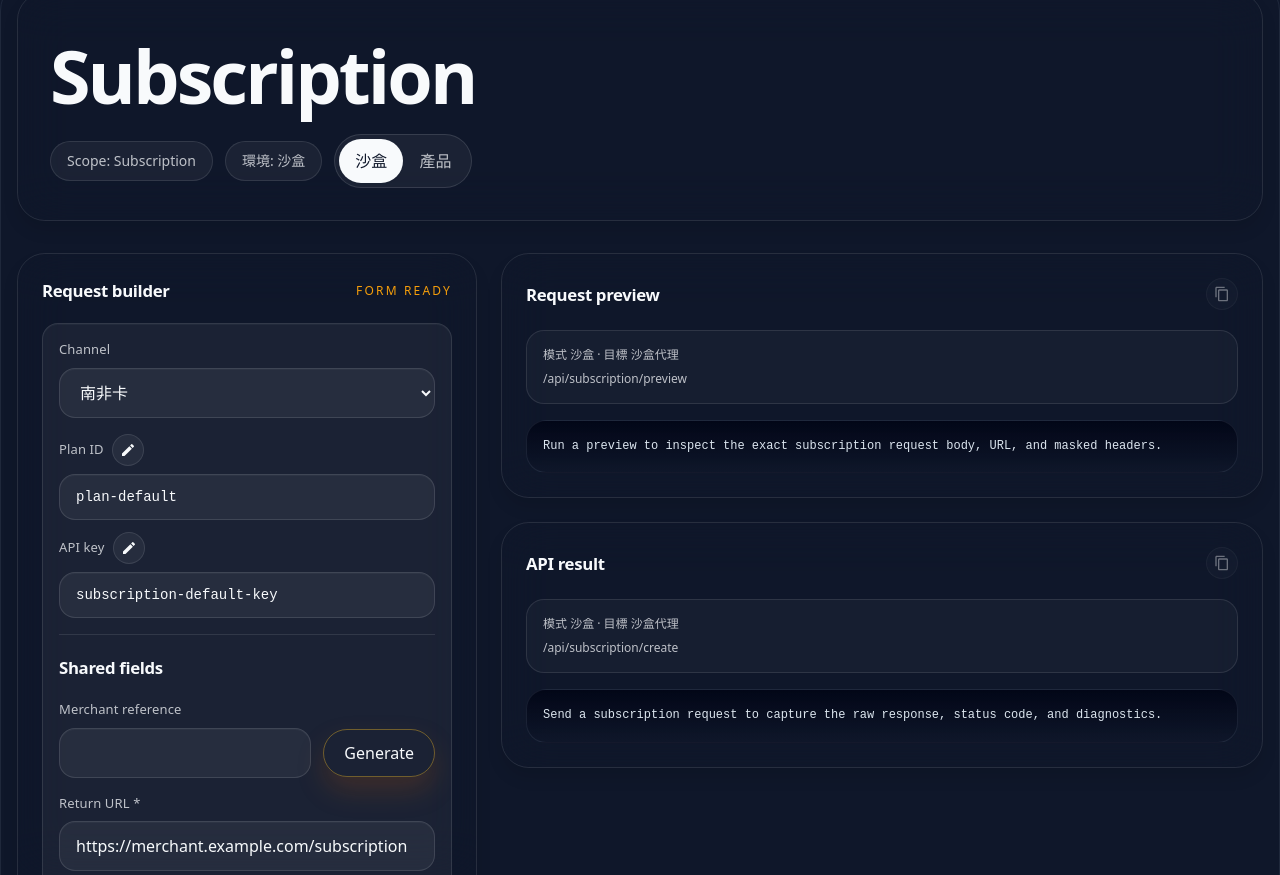
Test: SubscriptionPage › preview replaces the current merchant reference with the backend-generated value and create reuses it
The width and height of the screenshot is (1280, 875).
Check: the heading "Subscription" is shown, box top-left (50, 25), bottom-right (475, 126)
Check: the field labelled "Merchant reference" is empty, box top-left (59, 728), bottom-right (311, 778)
Click the button named "Edit API key" at (128, 548), box top-left (112, 532), bottom-right (144, 564)
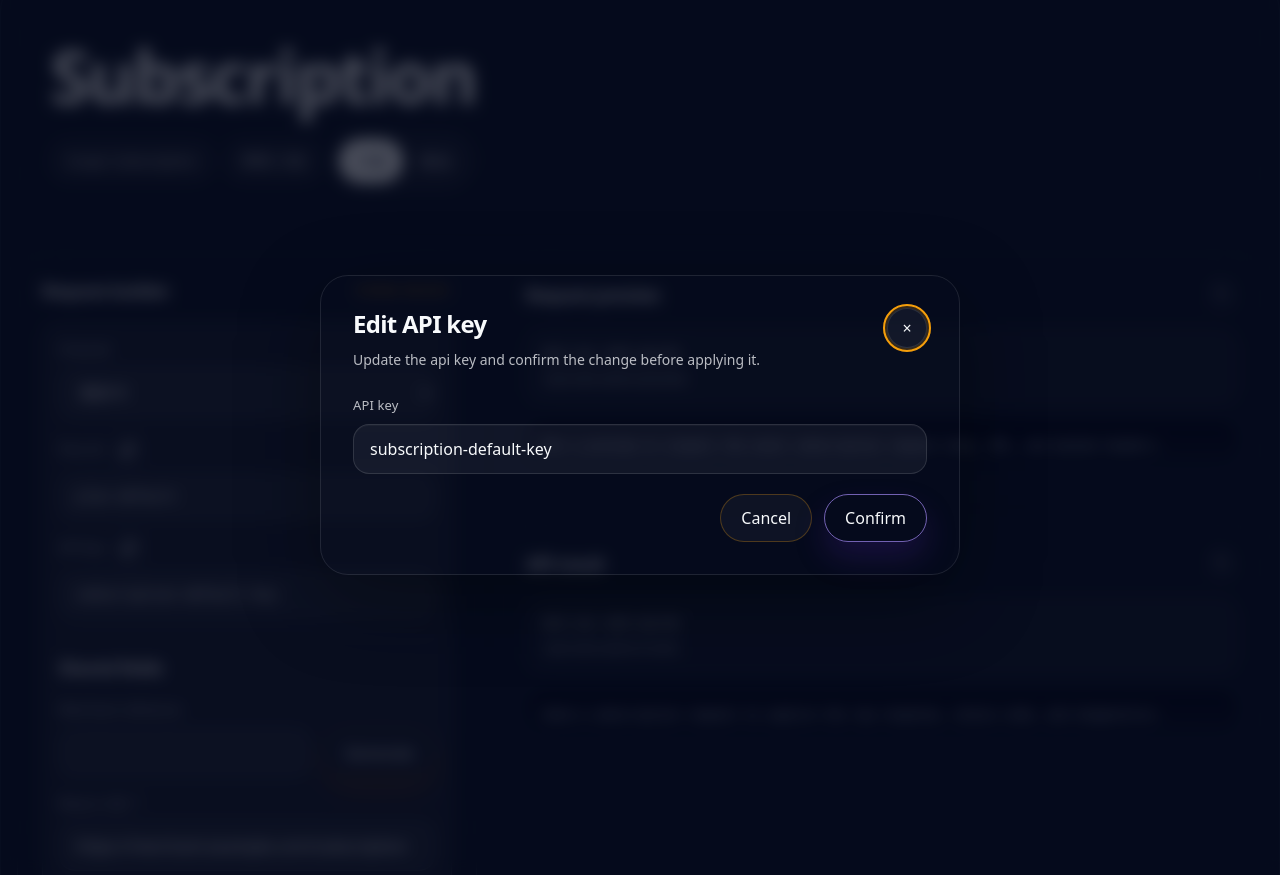
Check: the dialog is shown, box top-left (320, 275), bottom-right (960, 575)
Replace the text in the field labelled "API key" with "typed-subscription-key" at (640, 449), box top-left (353, 424), bottom-right (927, 474)
Click the button "Confirm" at (876, 518), box top-left (824, 494), bottom-right (927, 542)
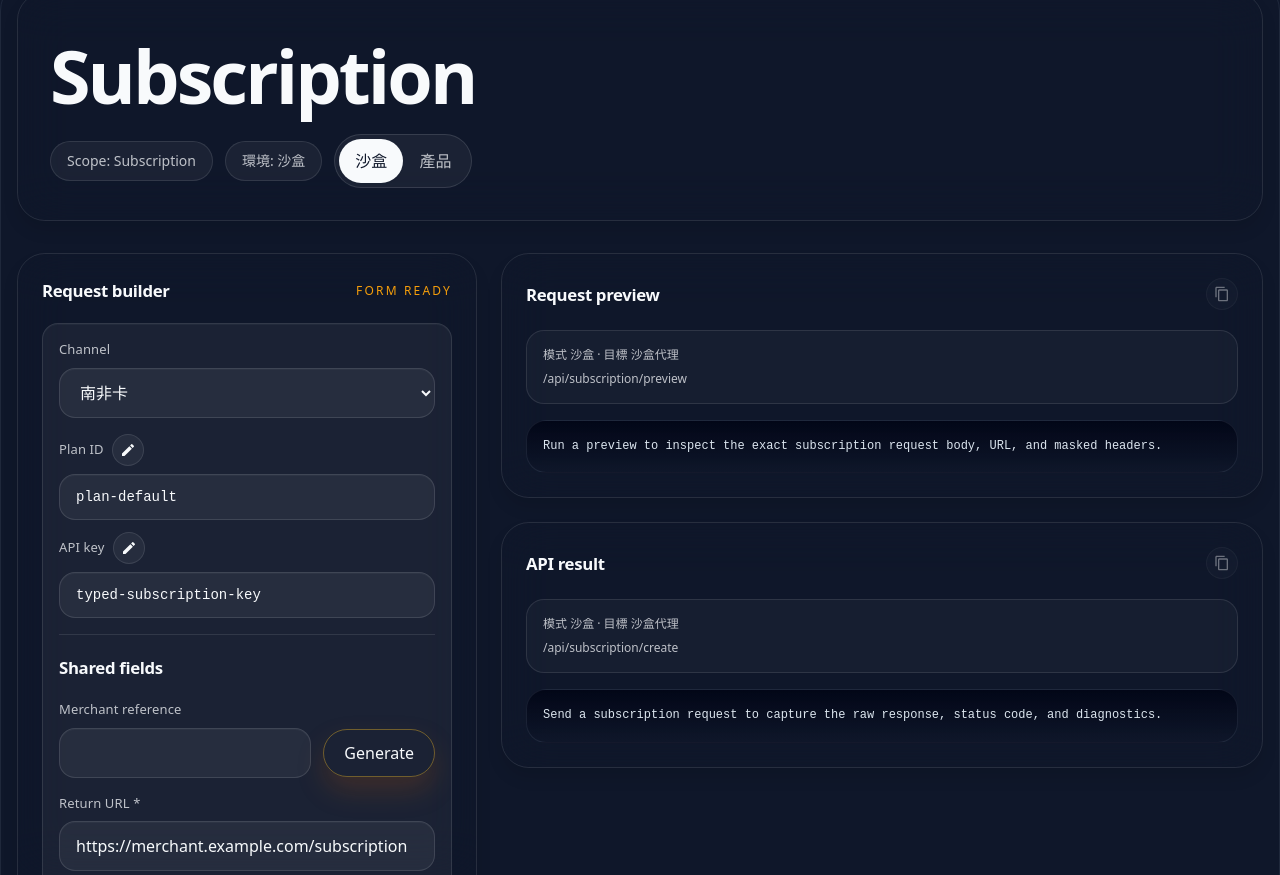
Click the button named "Edit Plan ID" at (128, 450), box top-left (112, 434), bottom-right (144, 466)
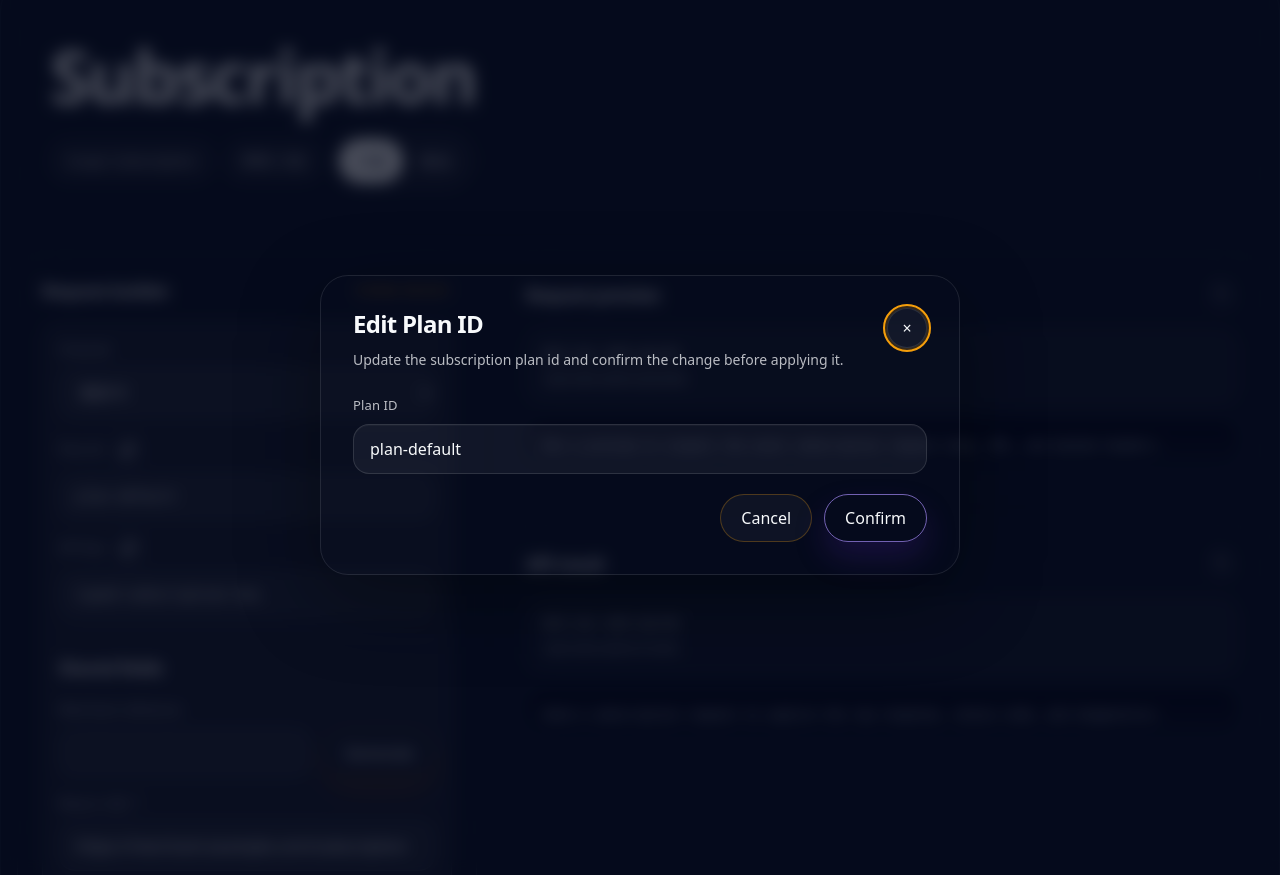
Check: the dialog is shown, box top-left (320, 275), bottom-right (960, 575)
Replace the text in the field labelled "Plan ID" with "plan-preview-override" at (640, 449), box top-left (353, 424), bottom-right (927, 474)
Click the button "Confirm" at (876, 518), box top-left (824, 494), bottom-right (927, 542)
(page scrolled)
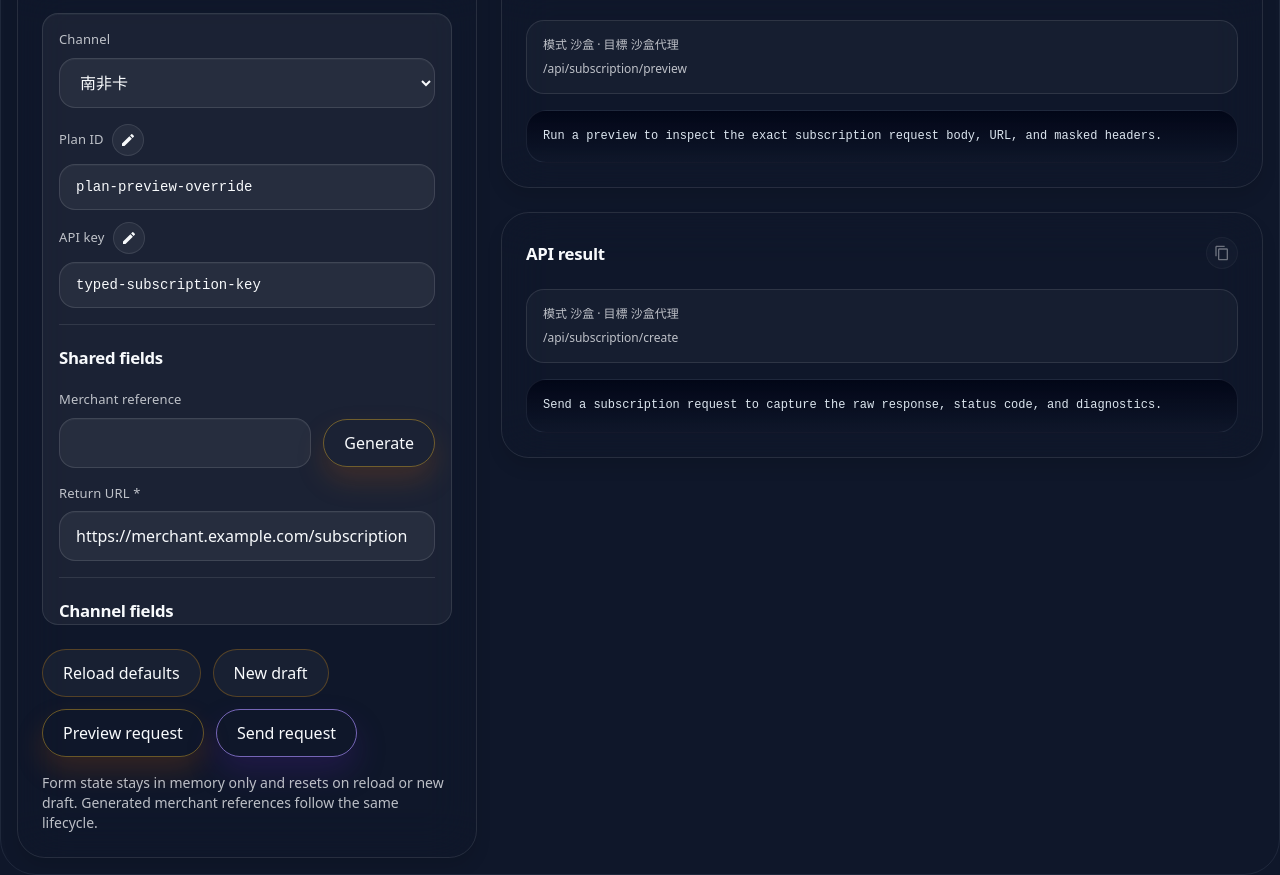
Check: the text "typed-subscription-key" is shown, box top-left (76, 277), bottom-right (261, 293)
Check: the text "plan-preview-override" is shown, box top-left (76, 179), bottom-right (252, 195)
Click the button "Preview request" at (123, 733), box top-left (42, 709), bottom-right (204, 757)
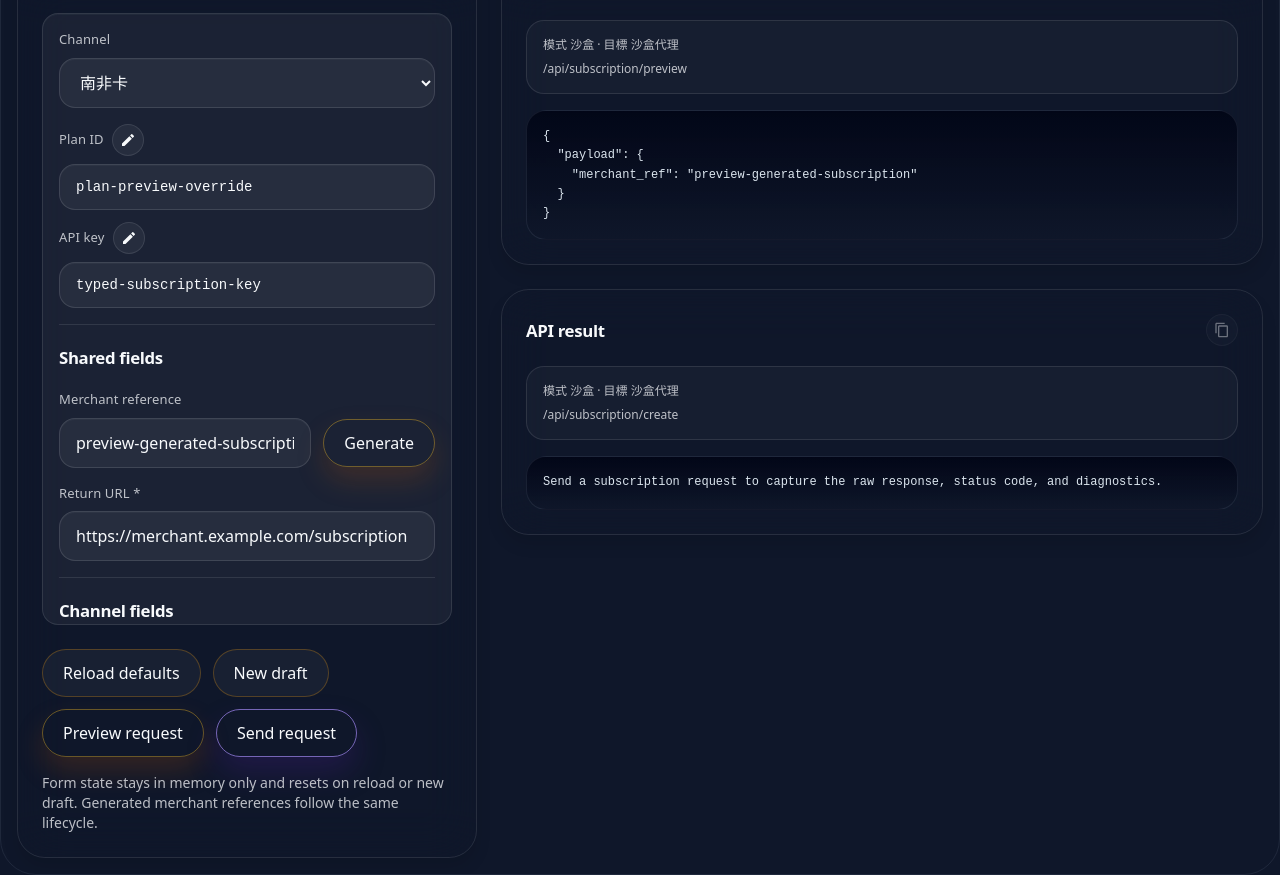
Check: the field labelled "Merchant reference" holds "preview-generated-subscription", box top-left (59, 418), bottom-right (311, 468)
Click the button "Send request" at (286, 733), box top-left (216, 709), bottom-right (357, 757)
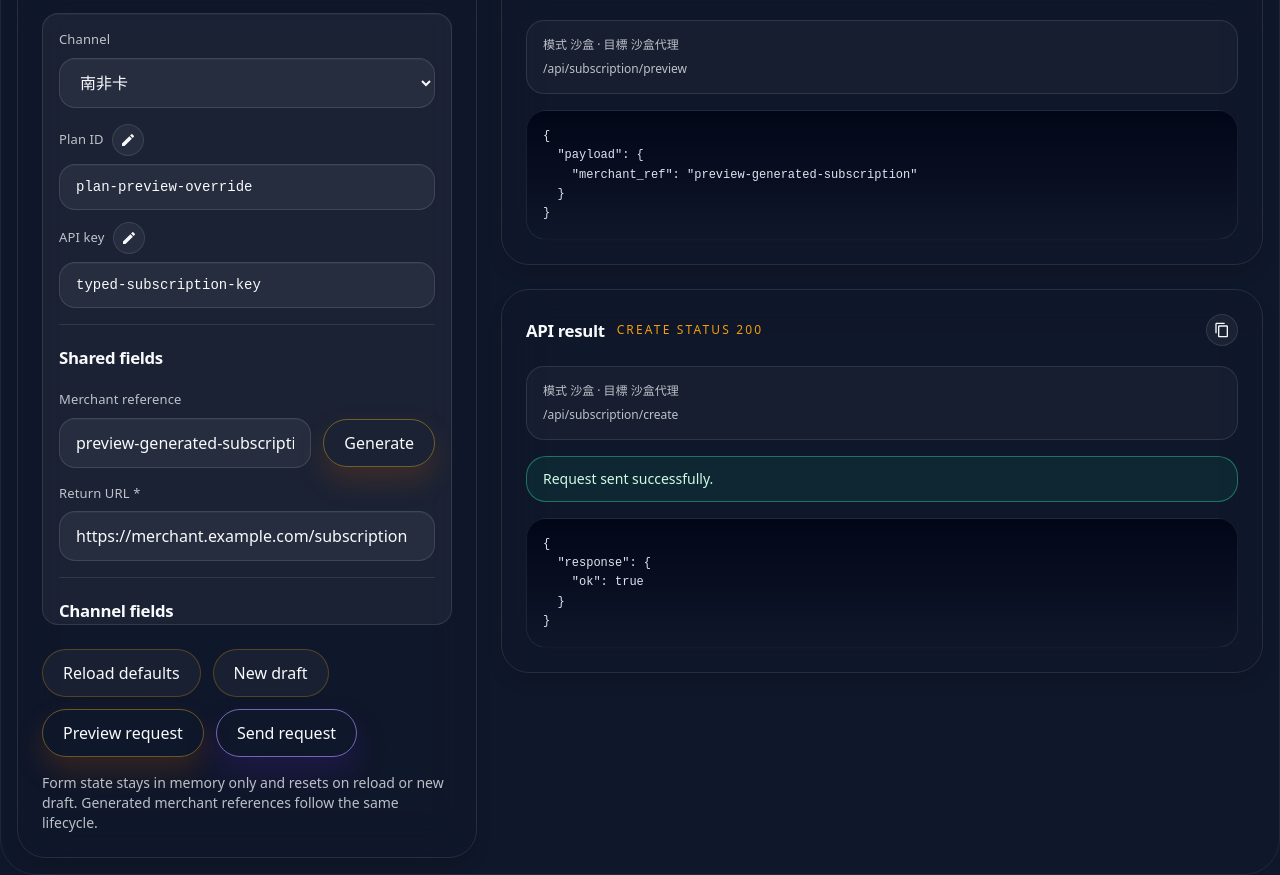
Check: the text "typed-subscription-key" is shown, box top-left (76, 277), bottom-right (261, 293)
Check: the text "plan-preview-override" is shown, box top-left (76, 179), bottom-right (252, 195)
Check: the text "Request sent successfully." is shown, box top-left (543, 469), bottom-right (713, 488)
